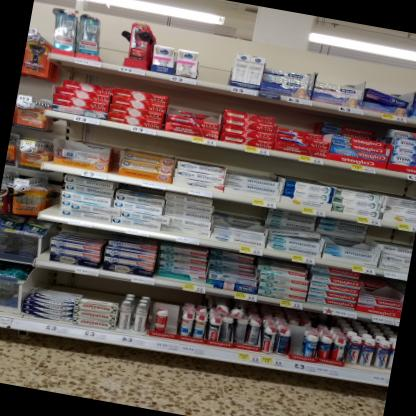empty_space: (196, 47, 232, 87), (99, 37, 129, 67)
